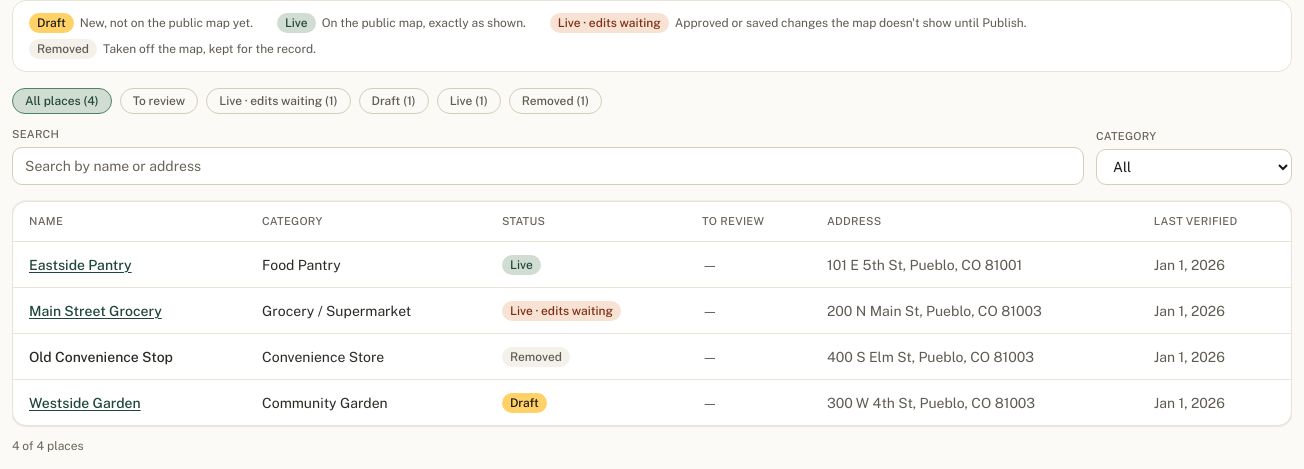
VenueListView — quick-filter chips (#674, formerly a status <select>) › filtering to Live shows only unedited live venues
The width and height of the screenshot is (1304, 469).
Click the button "Live (1)" at {"x": 469, "y": 101}, box x1=437 y1=88 x2=501 y2=114
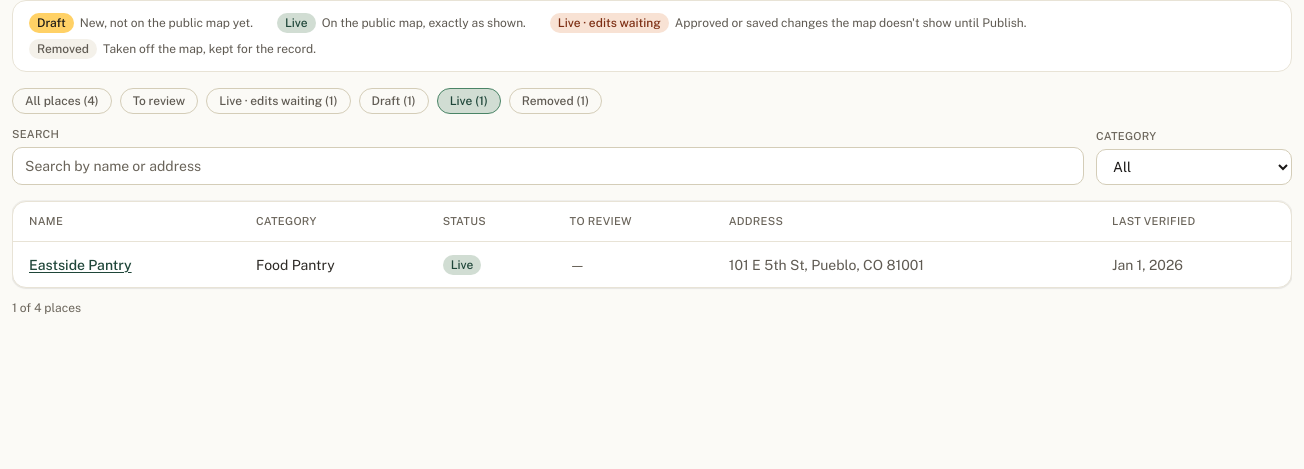
Result: the link "Main Street Grocery" is gone
Result: the link "Westside Garden" is gone
Result: the text "Old Convenience Stop" is gone
